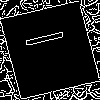I: (24, 25, 74, 50)
